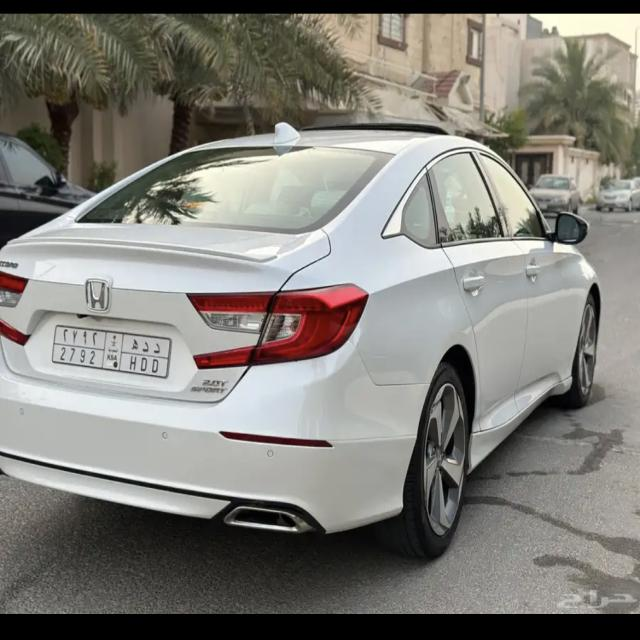license_plate: (53, 324, 173, 374)
